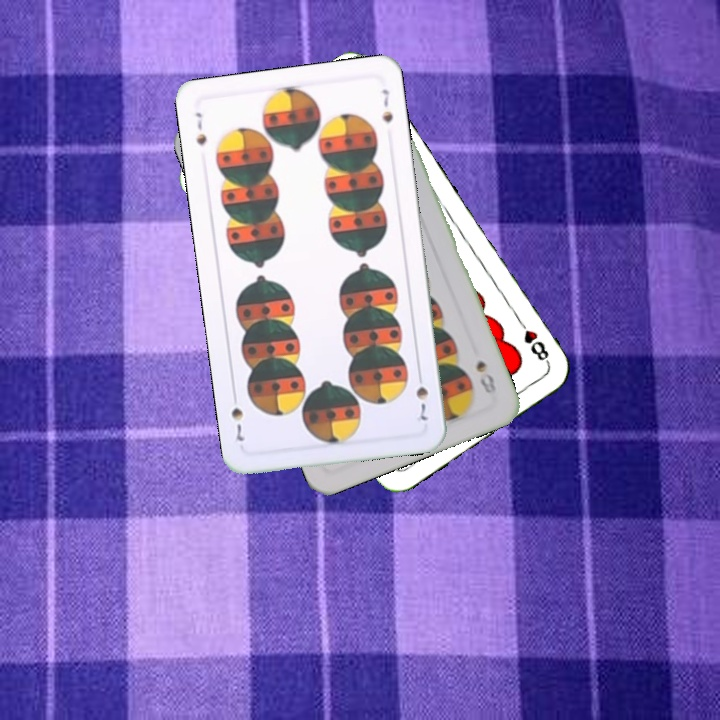H8: (513, 314, 553, 367)
S7: (411, 367, 431, 423), (191, 108, 210, 148)
S8: (472, 356, 499, 397)
